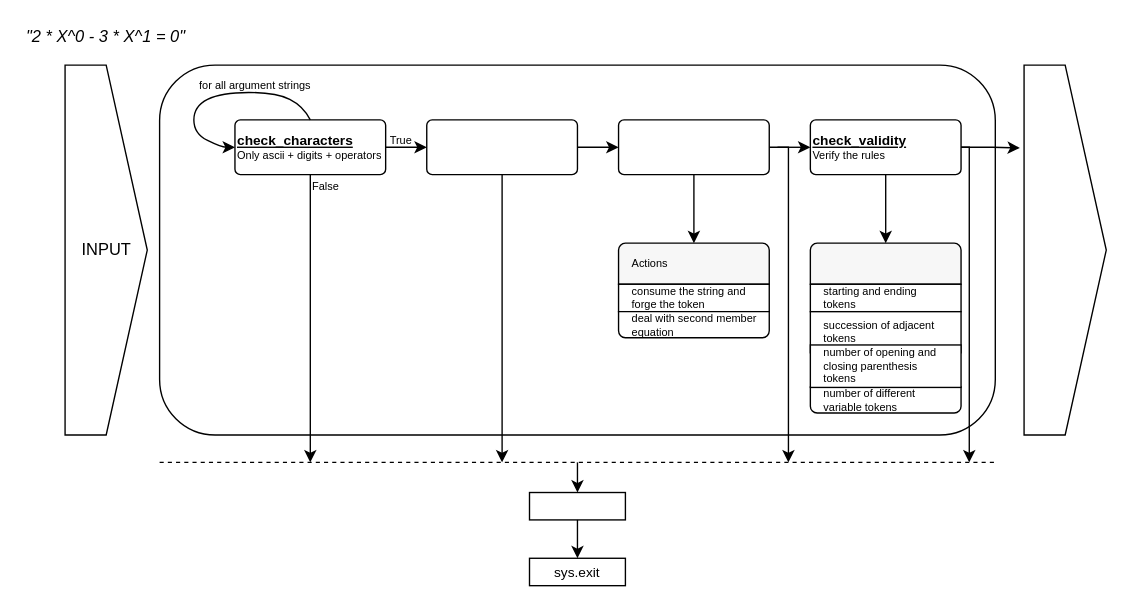
Some shapes in this 1130 by 610 pixel diagram are drawn without their labels. Here are the shapes that lost their labels. From the top down, the centre of each, then its label:
the point at 501,147: Check for '=' within all strings
the point at 693,147: tokenizer
the point at 885,263: Rules:
the point at 1064,249: OUTPUT
the point at 576,505: return None
